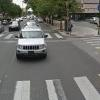Crosswalk: (11, 69, 100, 100)
